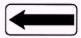Indicadores do inicio ou fim do local regulamentado: (1, 1, 81, 38)
